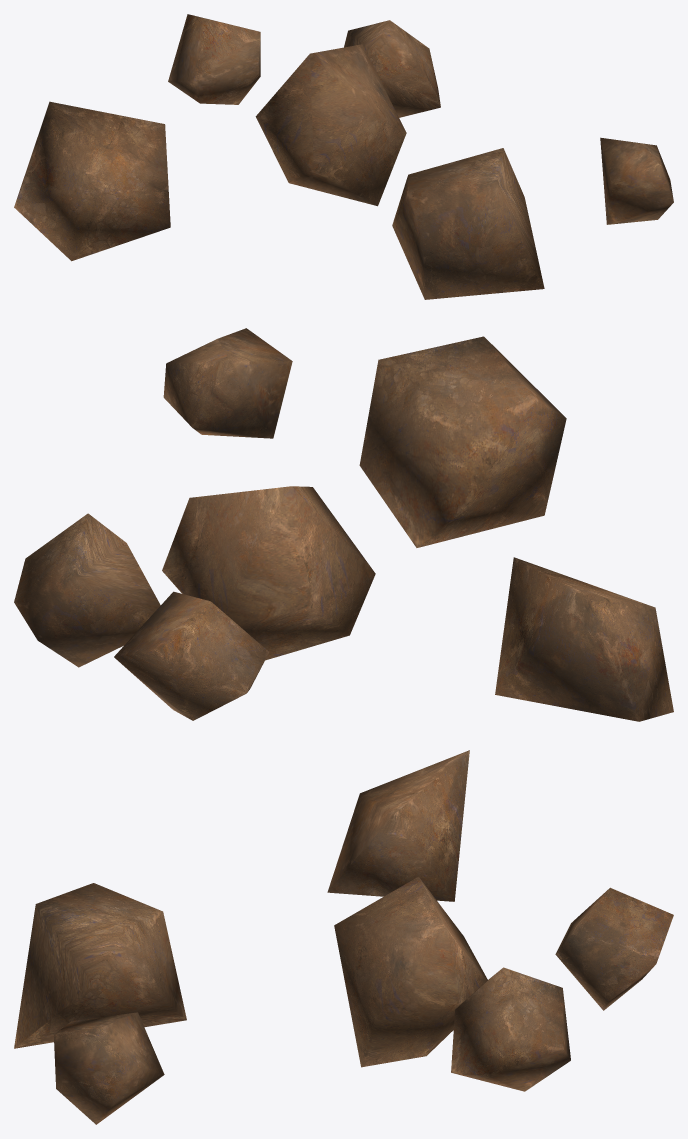
File: Stones_Tiny3_L1.fbx
The picture shows the model from 3 angles, top to bottom: view 1: azimuth 30°, elevation 25°; view 2: azimuth 150°, elevation 25°; view 3: azimuth 270°, elevation 25°; orthographic projection. The views are drawn at different scales.
Visible parts, largest first — view 1: polySurface225; view 2: polySurface225; view 3: polySurface225.
Boxes of the visible parts, x1=… form: polySurface225: x1=14, y1=14, x2=673, y2=299; polySurface225: x1=14, y1=328, x2=673, y2=721; polySurface225: x1=14, y1=750, x2=673, y2=1124.
Size of the model in its own units: 25.98 by 7.08 by 25.41.
